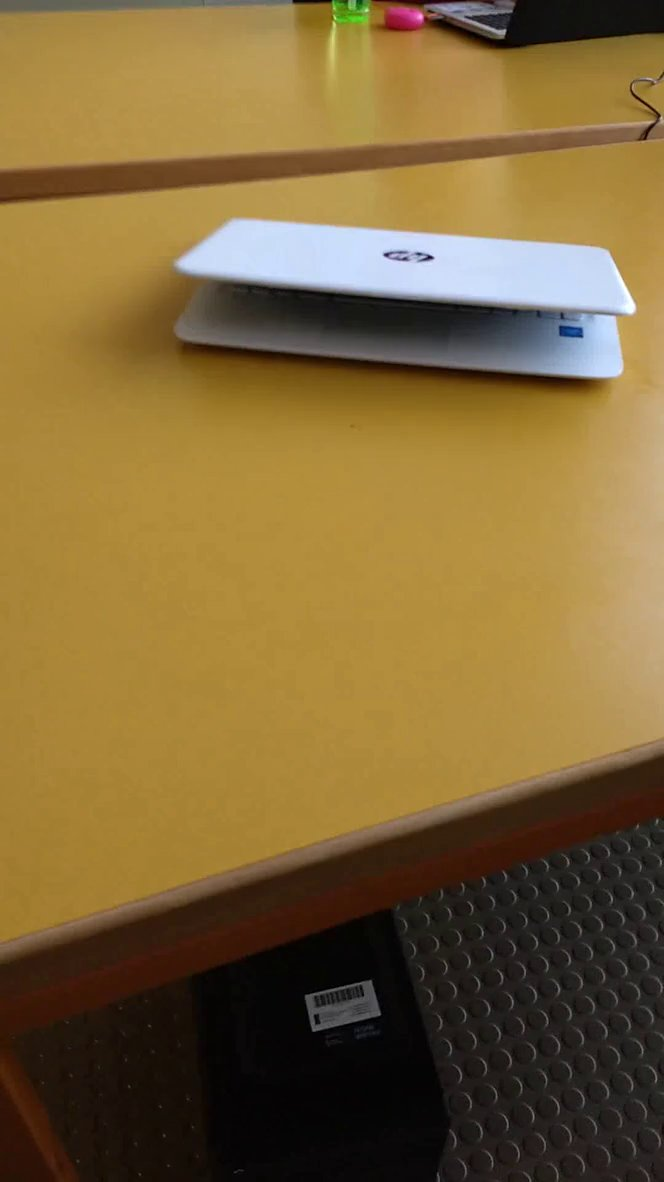laptop: (160, 203, 647, 403)
